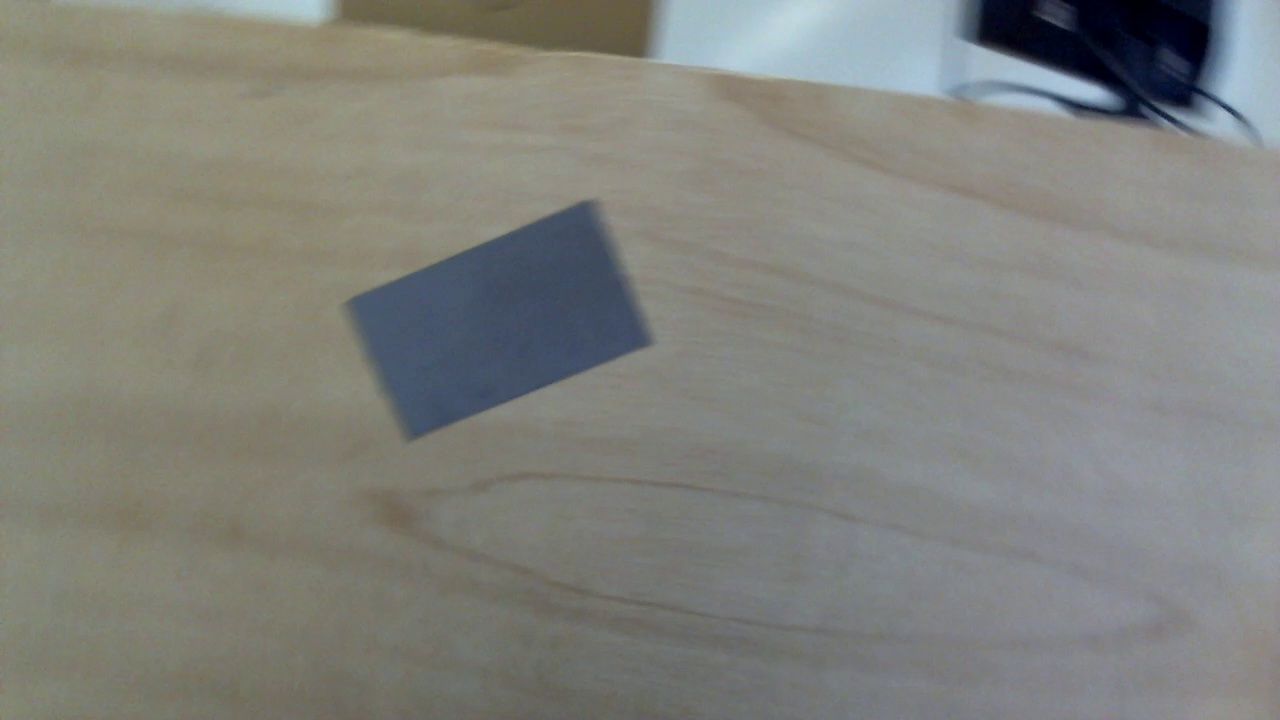Tape: (338, 190, 654, 445)
